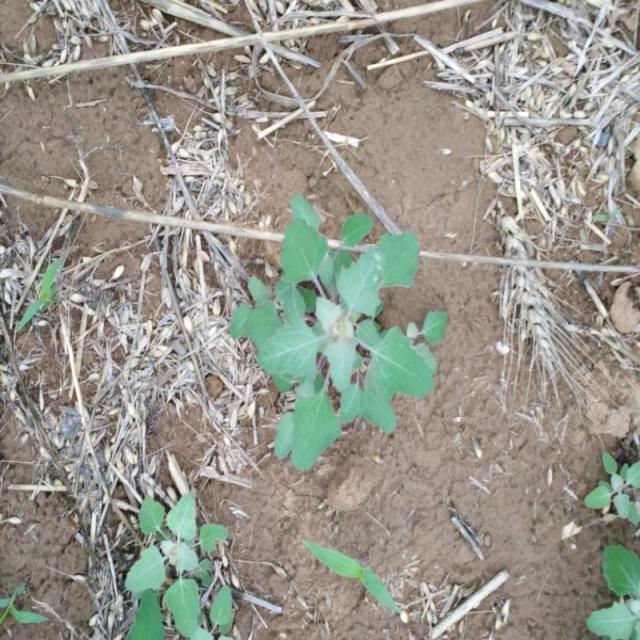goosefoots: (237, 206, 437, 443)
